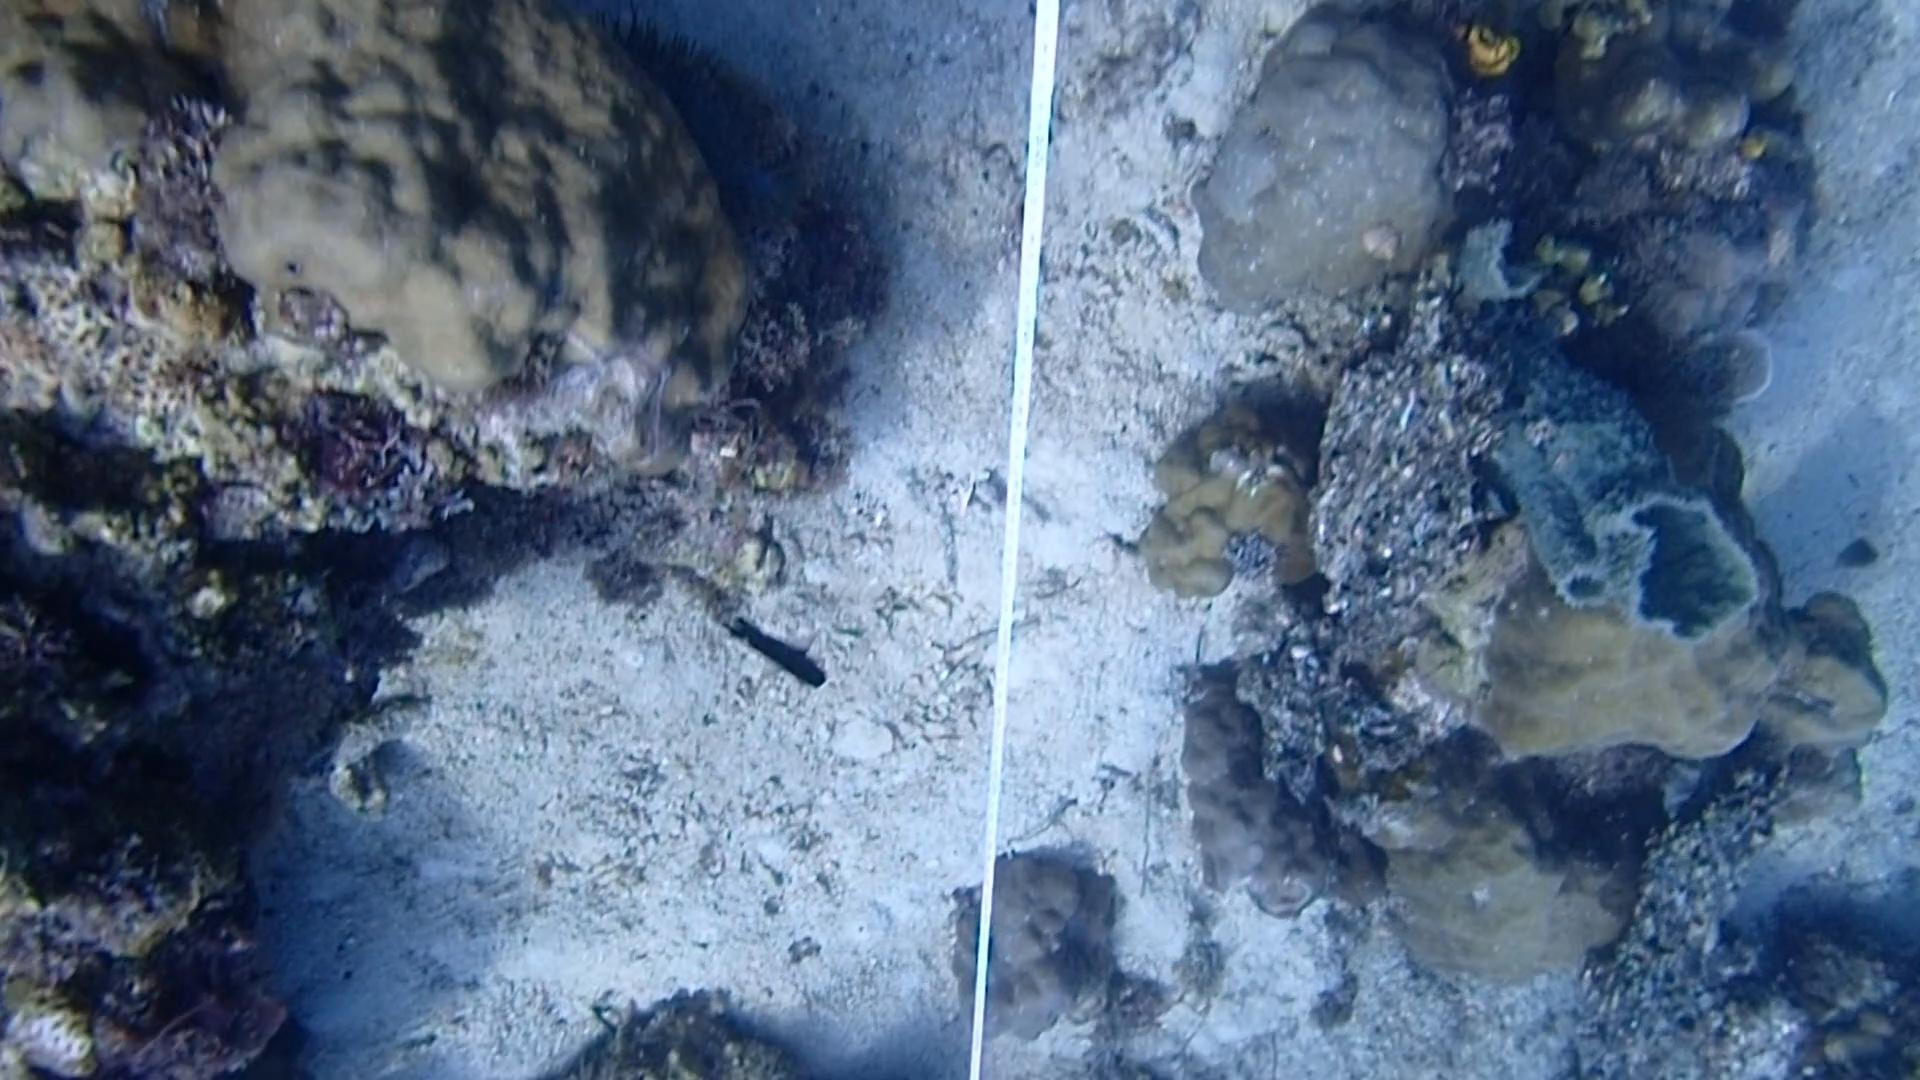Dark Fish: (709, 612, 836, 704)
